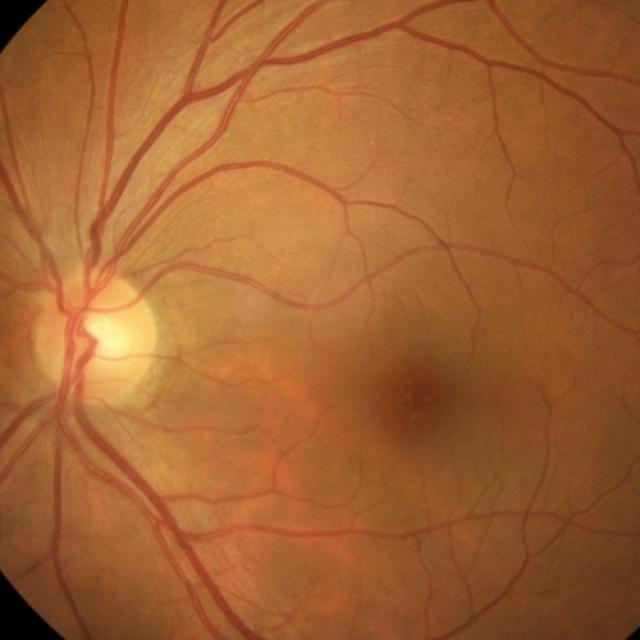OC: (70, 309, 128, 372)
OD: (36, 274, 155, 404)
